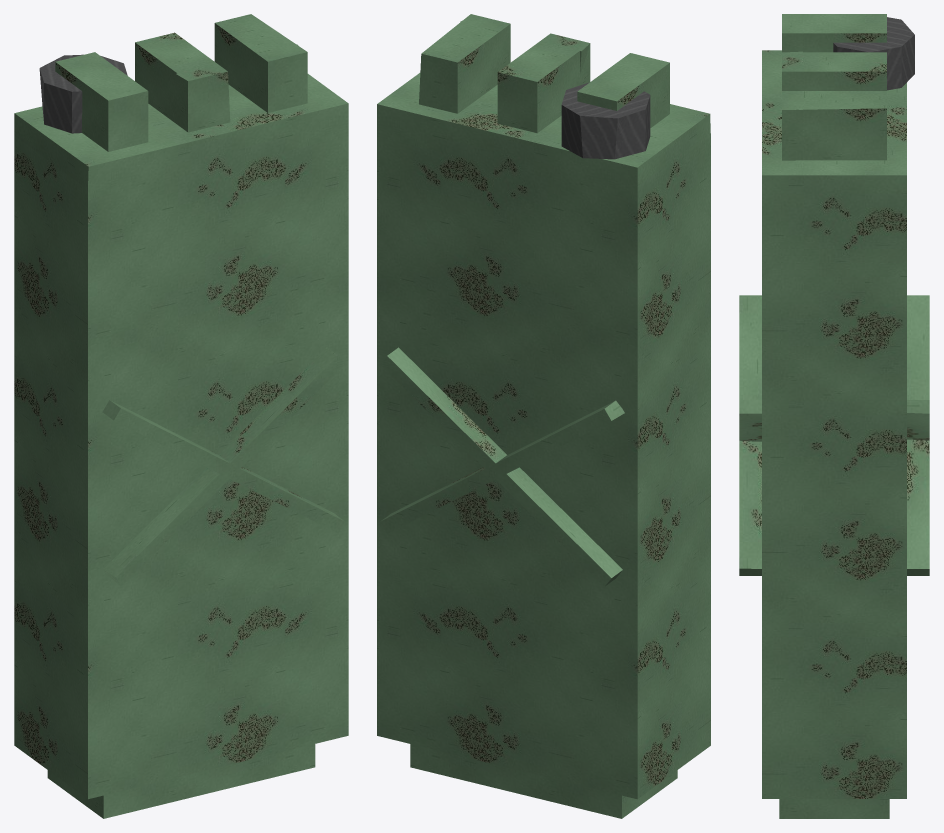
File: jerrycan_v3.glb
3 renders of one model, left to right at view 1: azimuth 30°, elevation 25°; view 2: azimuth 150°, elevation 25°; view 3: azimuth 270°, elevation 25°, orthographic.
Visible parts, largest first — view 1: Variant_jerrycan_3; view 2: Variant_jerrycan_3; view 3: Variant_jerrycan_3.
Boxes of the visible parts, x1,y1,x2,y2 form: Variant_jerrycan_3: (14, 14, 348, 818); Variant_jerrycan_3: (377, 14, 710, 818); Variant_jerrycan_3: (739, 14, 929, 818).
Size of the model in its own units: 0.17 by 0.446 by 0.109.
Materials: 2 (2 with a texture image).
